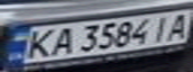3: (75, 21, 100, 53)
4: (130, 16, 154, 45)
5: (96, 20, 121, 51)
8: (115, 18, 136, 48)
A: (45, 25, 78, 56), (163, 10, 193, 39)
I: (148, 12, 175, 43)
K: (18, 26, 60, 61)
